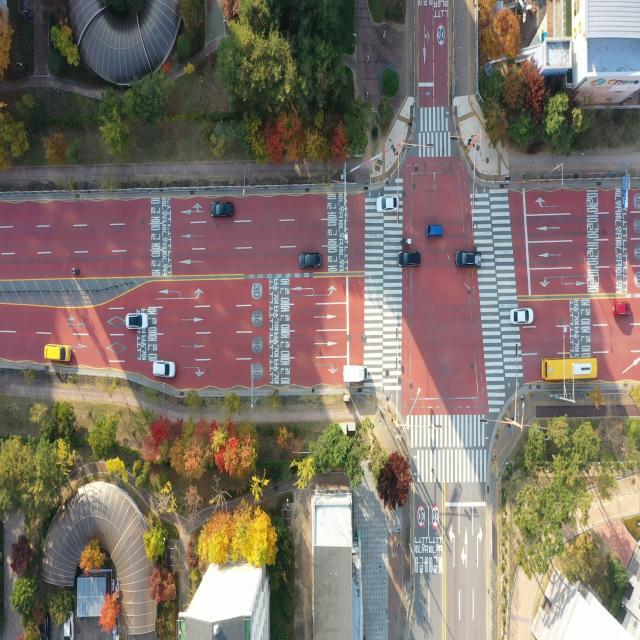car: (454, 250, 482, 268), (46, 344, 72, 363), (126, 312, 150, 330), (376, 196, 399, 213), (212, 202, 234, 219), (512, 308, 534, 325), (400, 250, 422, 267), (152, 360, 174, 377), (300, 252, 322, 267), (612, 300, 632, 316), (426, 222, 443, 236)
large_bus: (541, 356, 598, 382)
small_truck: (343, 362, 368, 384)
